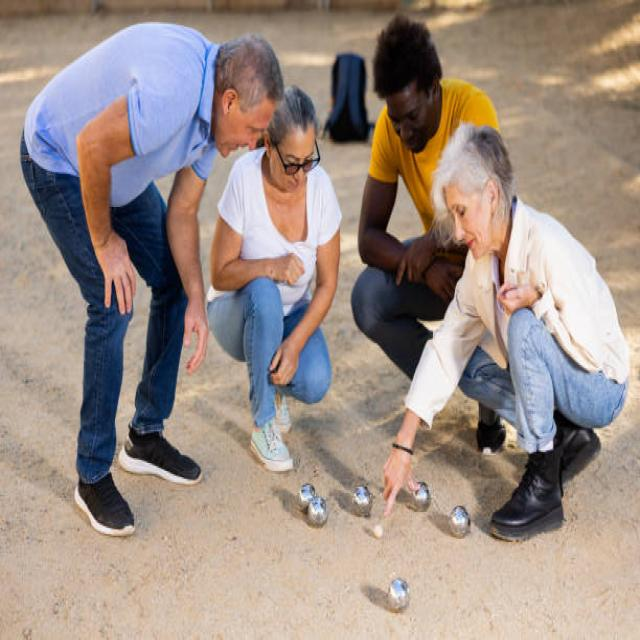hatball: (370, 521, 385, 543)
petanque: (347, 482, 379, 531), (446, 502, 477, 544), (384, 578, 416, 618), (409, 475, 435, 520), (292, 477, 316, 522), (305, 496, 329, 531)
